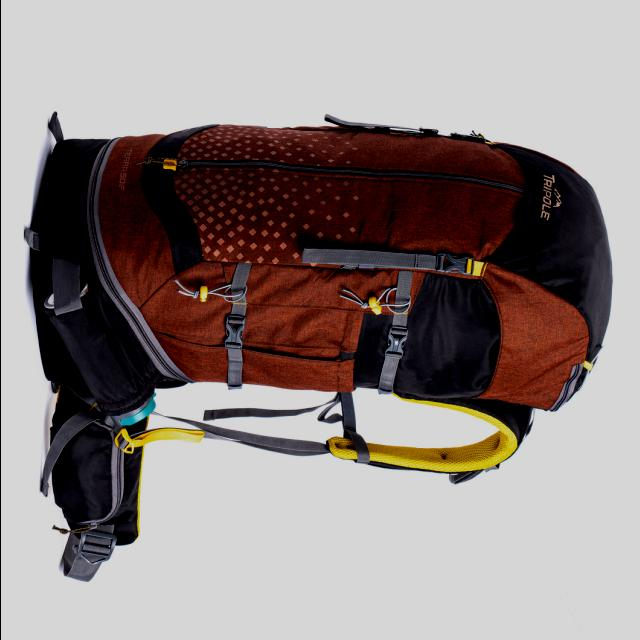backpack: (31, 113, 617, 578)
